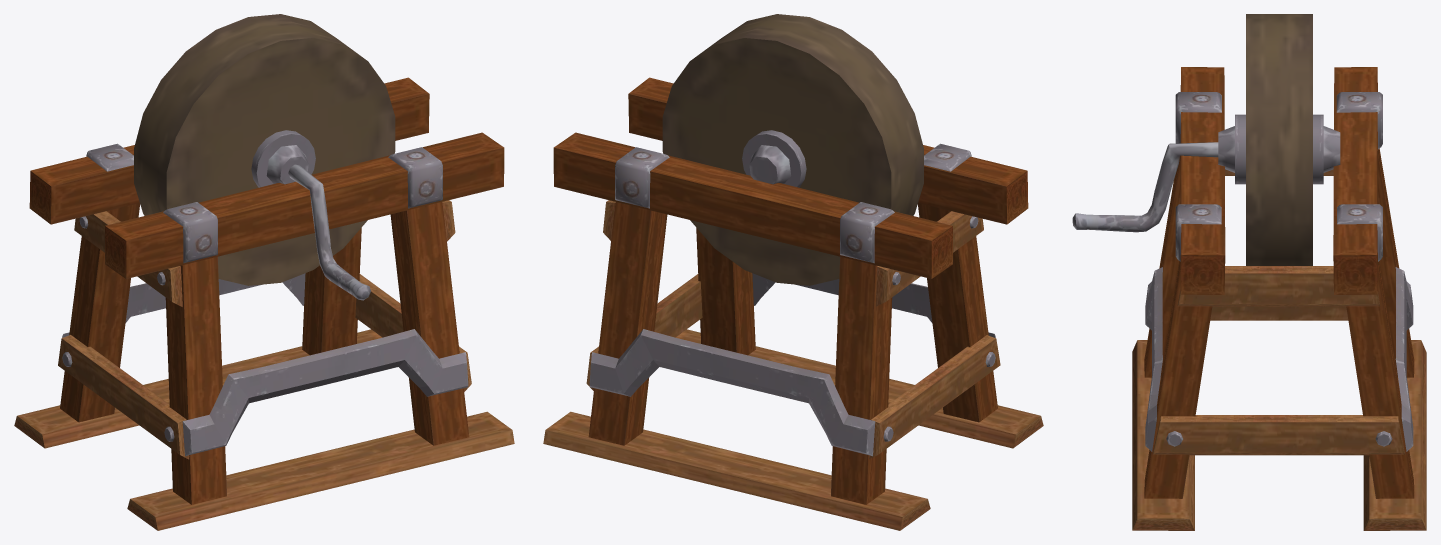
The model's file is Whetstone.glb.
The picture shows the model from 3 angles, left to right: view 1: azimuth 30°, elevation 25°; view 2: azimuth 150°, elevation 25°; view 3: azimuth 270°, elevation 25°; orthographic projection. The views are drawn at different scales.
Visible parts, largest first — view 1: Whetstone; view 2: Whetstone; view 3: Whetstone.
Part boxes in pixels (x1,y1,x2,y2): Whetstone: (14, 14, 514, 530); Whetstone: (543, 14, 1043, 530); Whetstone: (1072, 14, 1426, 530).
Bounding box in the file's own units: 1.14 × 1.17 × 0.9018.
3 materials, 3 textured.
